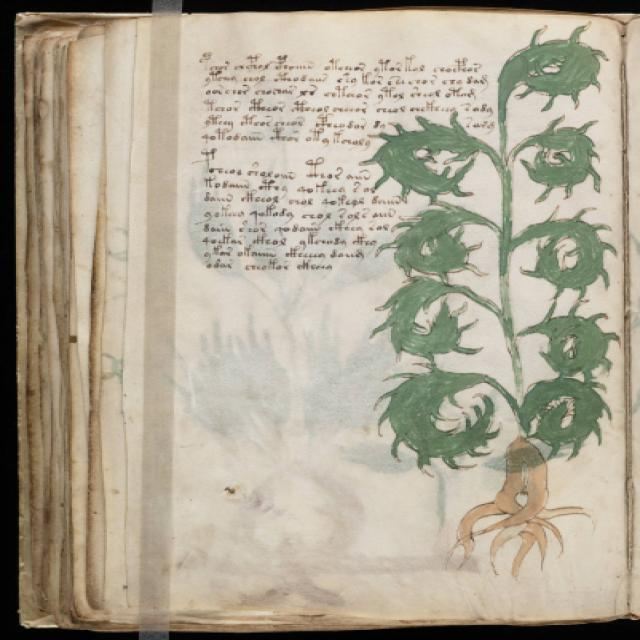plant: (359, 26, 624, 579)
